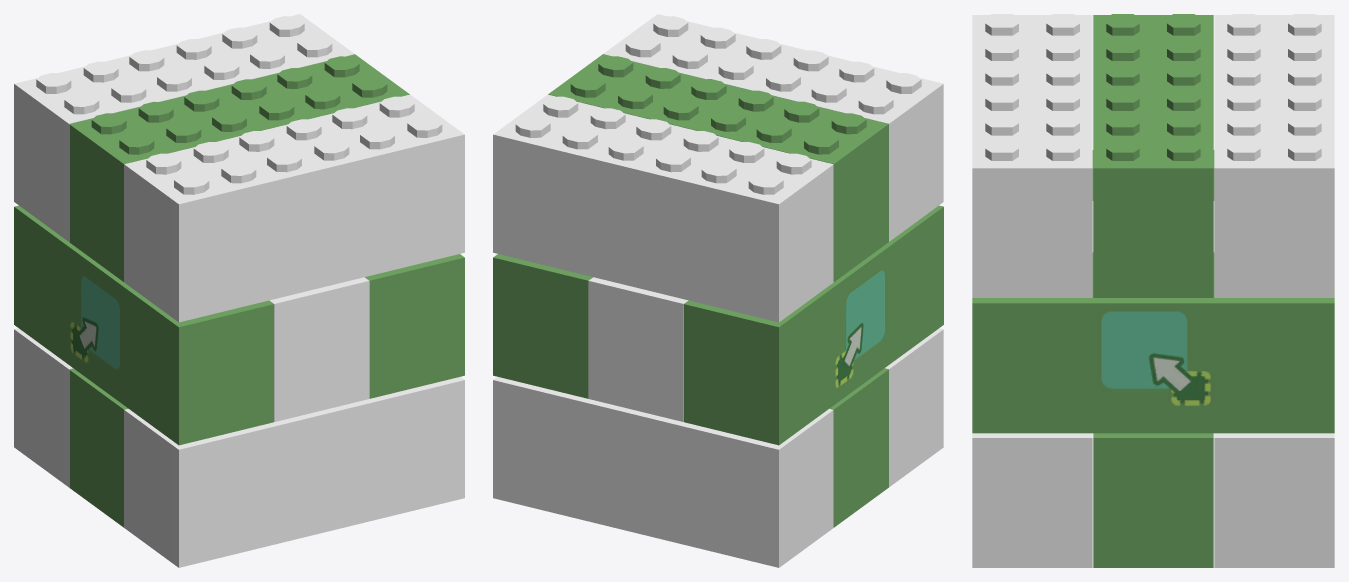
The model's file is InteractableBlock3x3Grow_Hovered.fbx.
3 views of the same model, side by side, from view 1: azimuth 30°, elevation 25°; view 2: azimuth 150°, elevation 25°; view 3: azimuth 270°, elevation 25° (orthographic). The views are drawn at different scales.
Visible parts, largest first — view 1: Cube.035; view 2: Cube.035; view 3: Cube.035.
Part boxes in pixels (box(x1,y1,x2,y2)): Cube.035: box(14, 14, 464, 567); Cube.035: box(493, 14, 943, 567); Cube.035: box(972, 14, 1334, 567).
Bounding box in the file's own units: 457 × 566 × 456.
